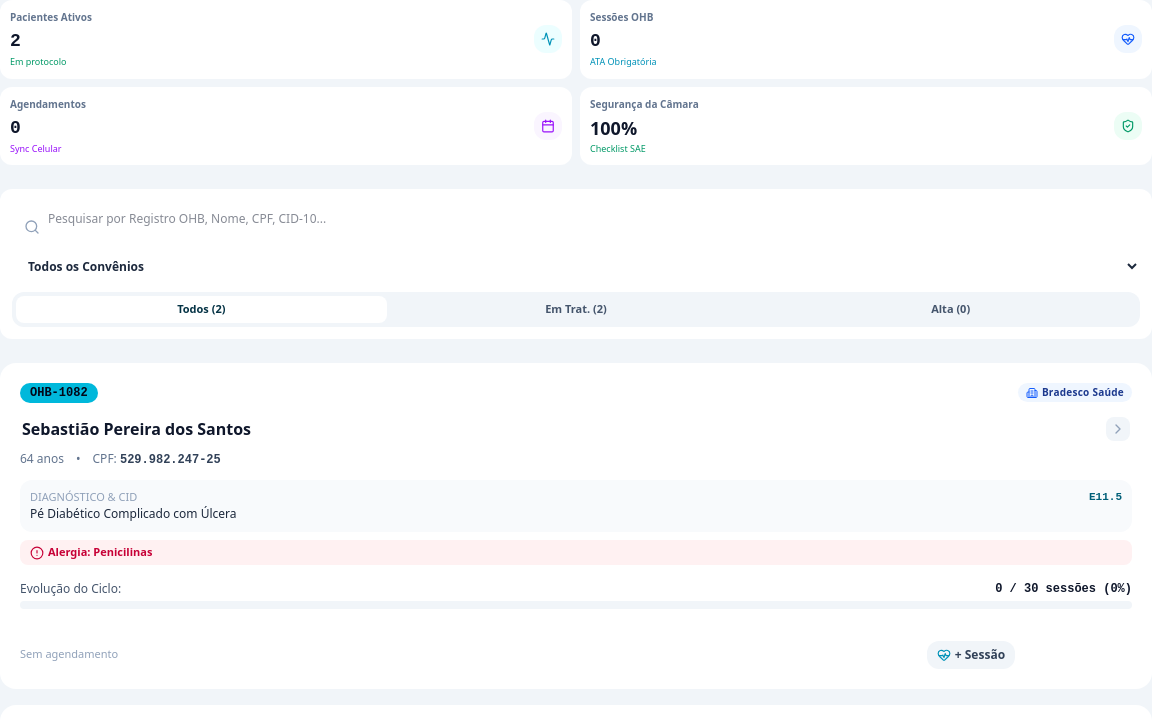
it: PatientList Component › deve filtrar pacientes ao digitar termo de busca por nome, CPF ou Registro OHB
The width and height of the screenshot is (1152, 720).
Busca por Registro OHB
Type "OHB-1082" into the field with placeholder "Pesquisar por Registro OHB, Nome, CPF, CID-10...".
click(576, 219); type("OHB-1082")  # box 12,201 -> 1140,237
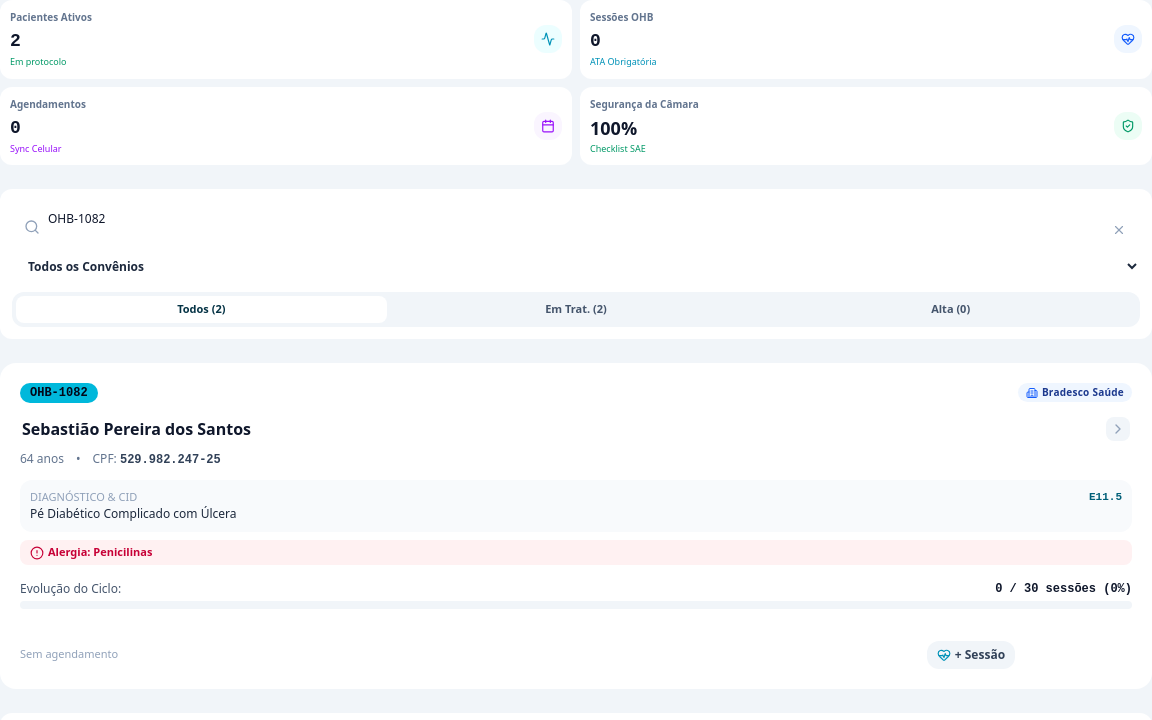
Expected: the text "Sebastião Pereira dos Santos" is shown, 22,417 -> 251,441
Expected: the text "Helena Ribeiro de Castro" is not shown
Busca por CID-10
Replace the text in the field with placeholder "Pesquisar por Registro OHB, Nome, CPF, CID-10..." with "M72.6" at (576, 219), box 12,201 -> 1140,237
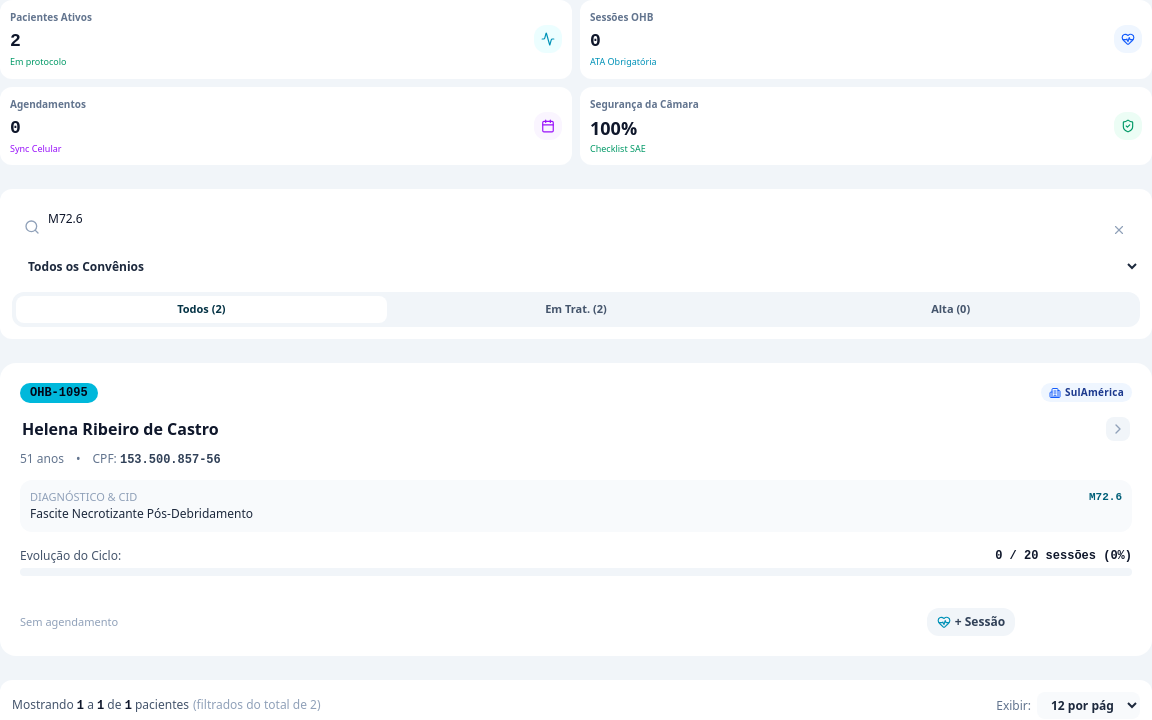
Expected: the text "Helena Ribeiro de Castro" is shown, 22,417 -> 219,441
Expected: the text "Sebastião Pereira dos Santos" is gone
